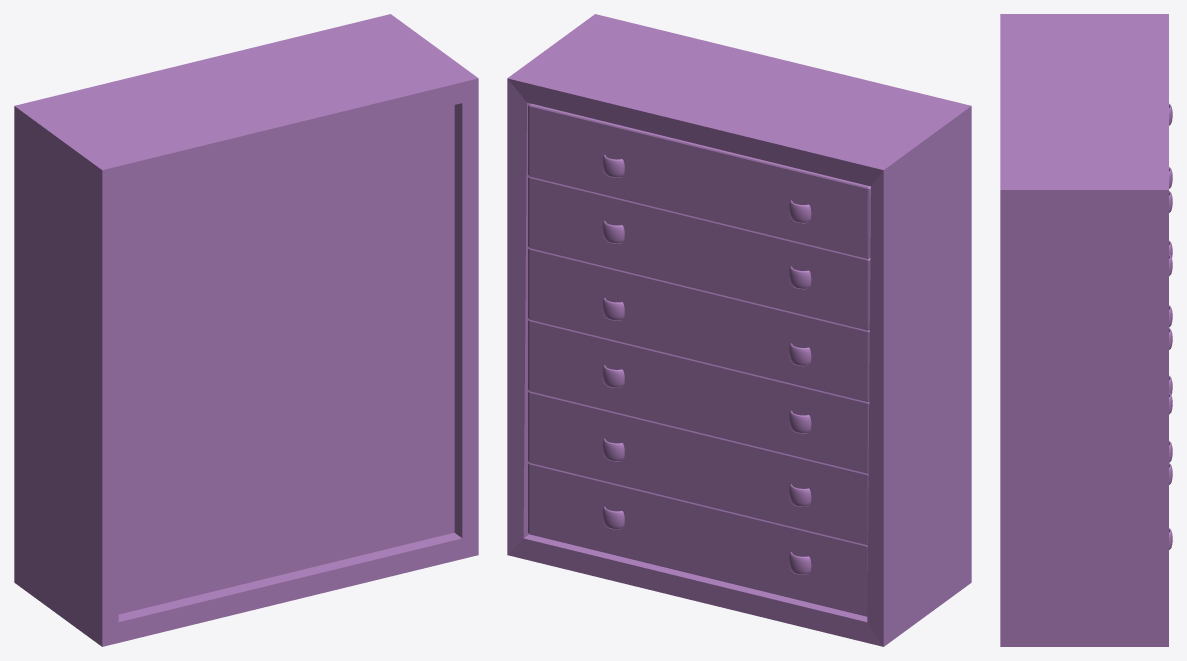
The model's file is tansu.fbx.
The picture shows the model from 3 angles, left to right: view 1: azimuth 30°, elevation 25°; view 2: azimuth 150°, elevation 25°; view 3: azimuth 270°, elevation 25°; orthographic projection. The views are drawn at different scales.
Parts seen in each view (by area): view 1: Cube; view 2: Cube, Torus.006, Torus.002, Torus.003, Torus.004, Torus.005, Torus.012; view 3: Cube.
Boxes of the visible parts, x1,y1,x2,y2 form: Cube: (14, 14, 478, 646); Cube: (507, 14, 971, 646); Torus.006: (528, 103, 870, 258); Torus.002: (528, 176, 870, 330); Torus.003: (528, 248, 869, 401); Torus.004: (528, 319, 869, 473); Torus.005: (528, 391, 868, 545); Torus.012: (528, 462, 867, 616); Cube: (1000, 14, 1168, 646).
Bounding box in the file's own units: 1.65 × 2 × 0.6841.
